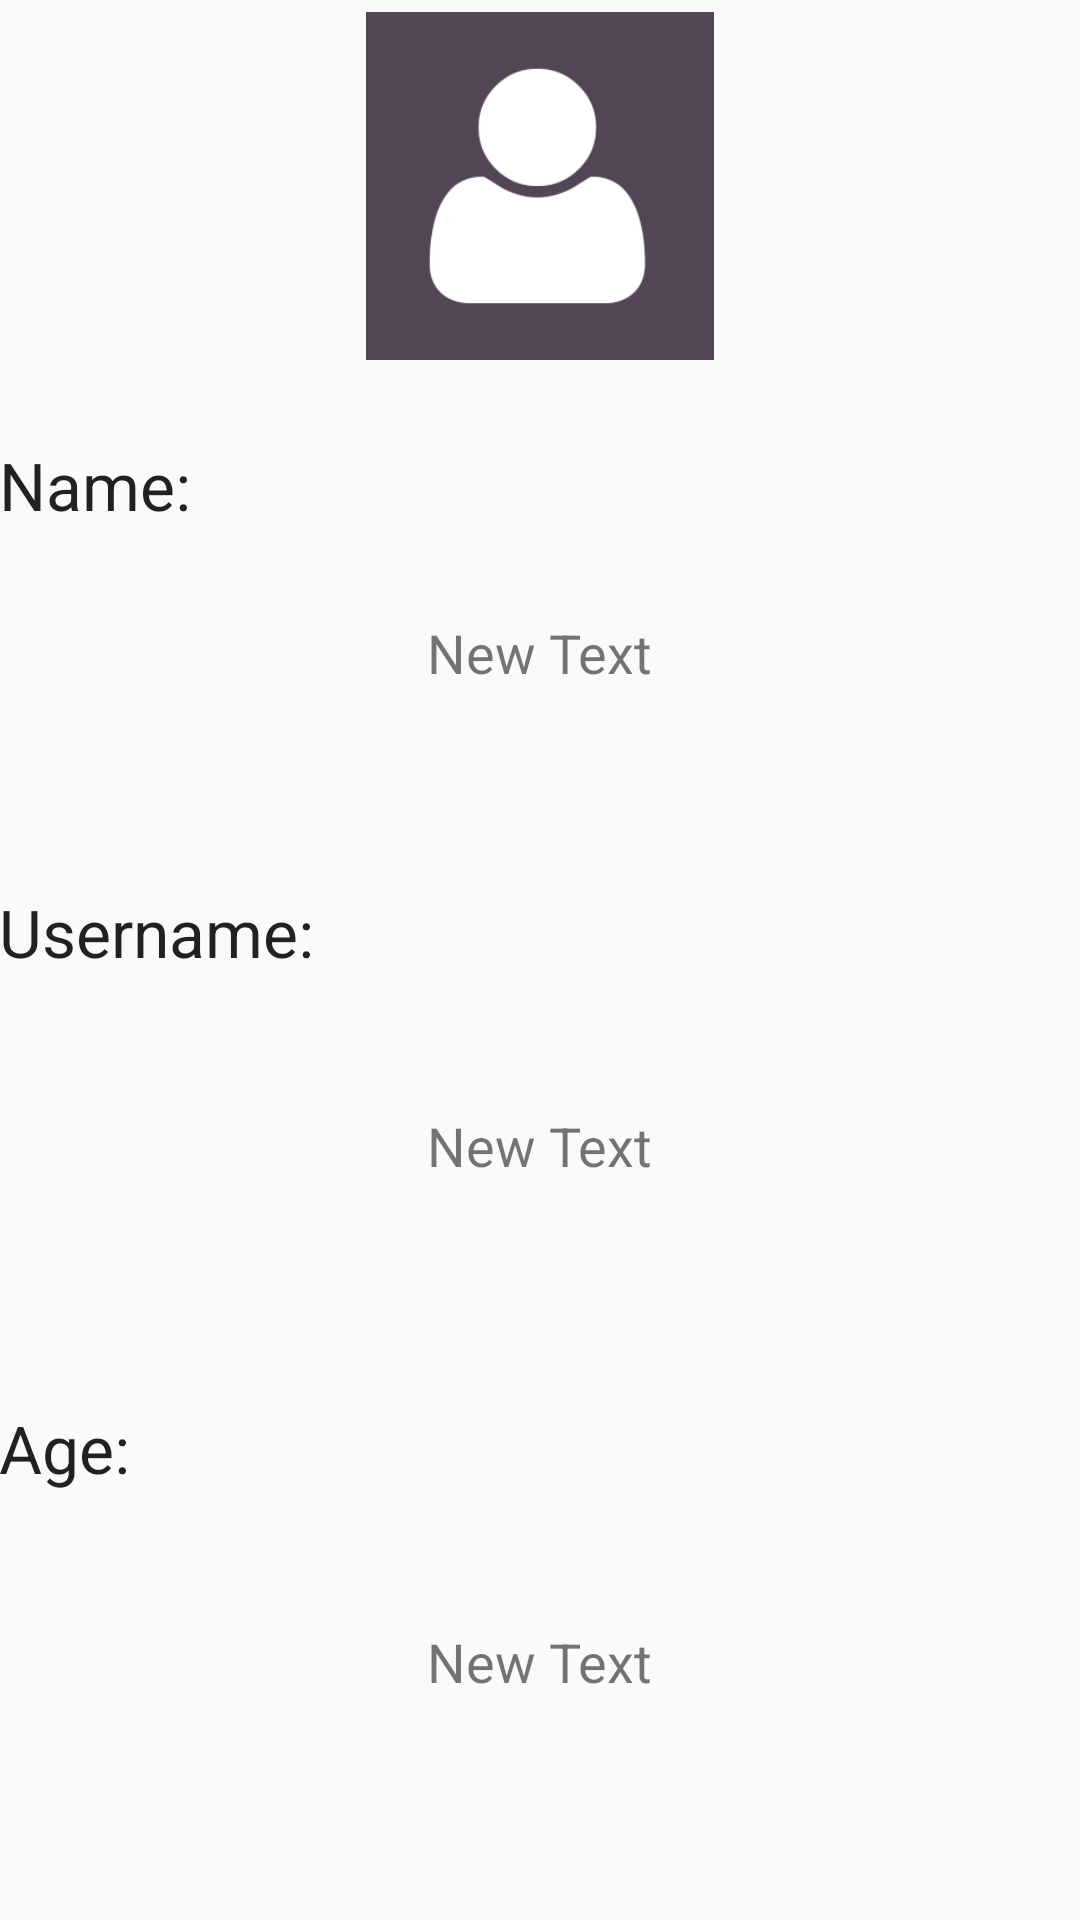

Where icons sit on this 1080x1920 app screen, as (x1, y1, x2, y2):
patient's image: (366, 12, 714, 360)
